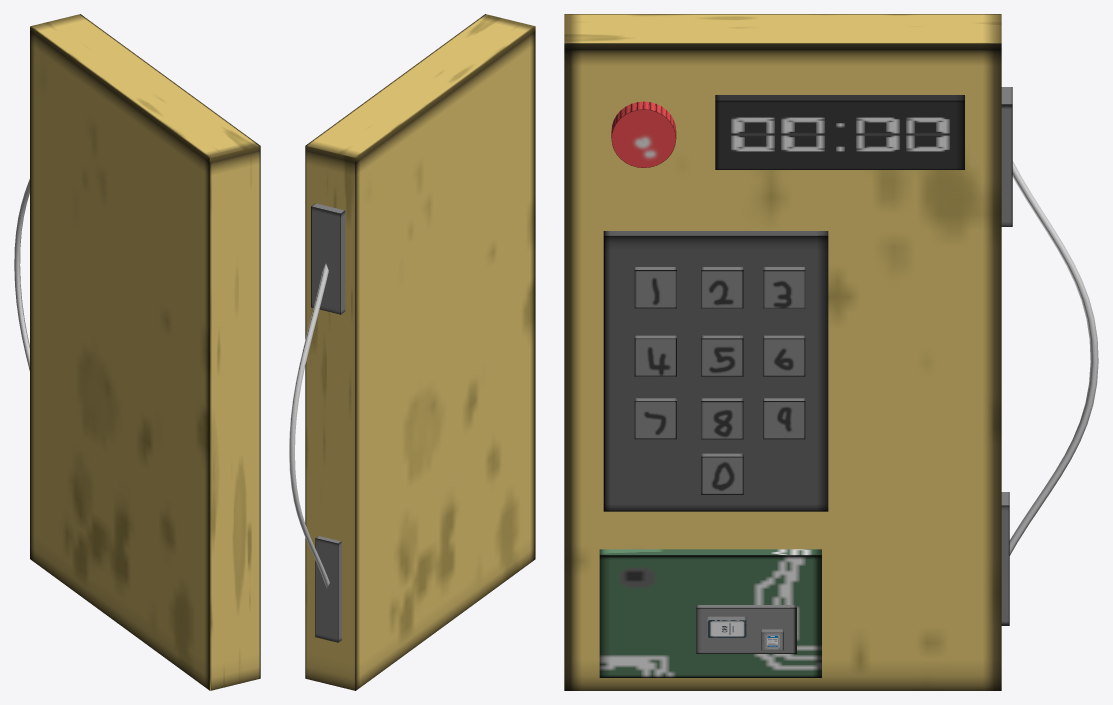
File: Bomb_spot_the_difference.fbx
3 views of the same model, side by side, from view 1: azimuth 30°, elevation 25°; view 2: azimuth 150°, elevation 25°; view 3: azimuth 270°, elevation 25° (orthographic). The views are drawn at different scales.
Visible parts, largest first — view 1: Cube, Catenary; view 2: Cube, Catenary; view 3: Cube, Catenary.
Boxes of the visible parts, left/top/right/bottom form: Cube: left=30, top=14, right=260, bottom=690; Catenary: left=14, top=179, right=29, bottom=370; Cube: left=305, top=14, right=535, bottom=690; Catenary: left=289, top=264, right=329, bottom=587; Cube: left=564, top=14, right=1012, bottom=690; Catenary: left=1009, top=161, right=1098, bottom=555.
Bounding box in the file's own units: 148 × 1057 × 791.
